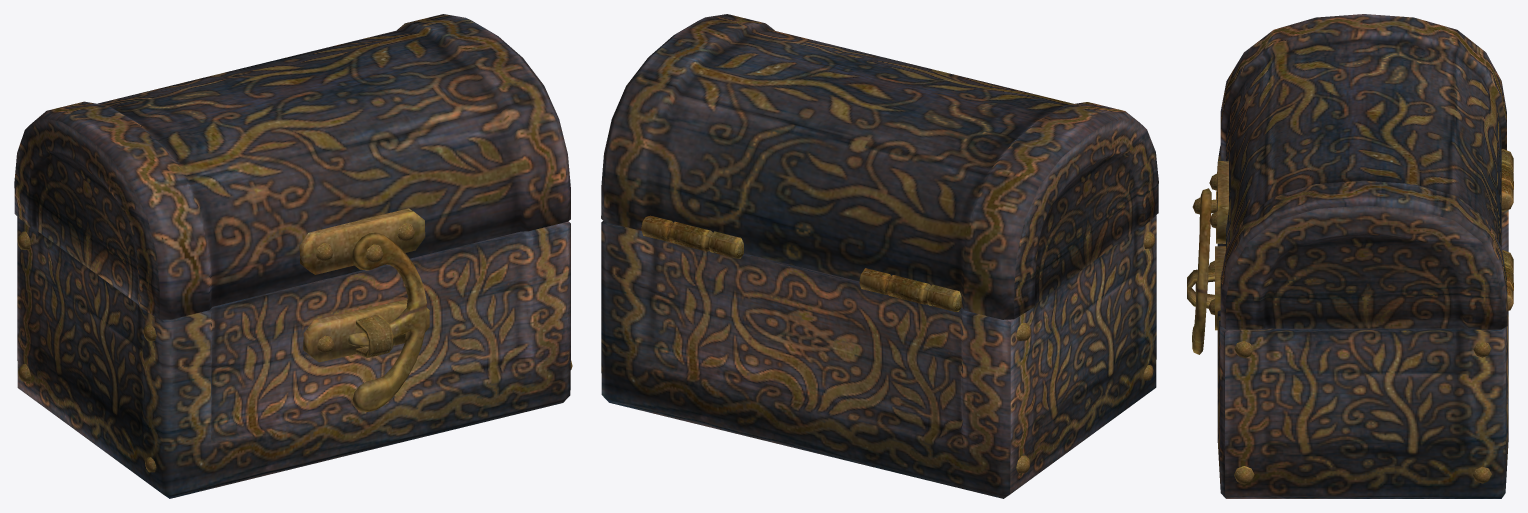
File: Casket.FBX
3 views of the same model, side by side, from view 1: azimuth 30°, elevation 25°; view 2: azimuth 150°, elevation 25°; view 3: azimuth 270°, elevation 25° (orthographic). The views are drawn at different scales.
Parts seen in each view (by area): view 1: casket_cover, casket; view 2: casket_cover, casket; view 3: casket_cover, casket.
Part boxes in pixels (bbox=[...]): casket_cover: bbox=[14, 14, 570, 411]; casket: bbox=[17, 216, 572, 498]; casket_cover: bbox=[601, 14, 1158, 319]; casket: bbox=[601, 215, 1156, 498]; casket_cover: bbox=[1192, 14, 1507, 354]; casket: bbox=[1187, 146, 1513, 498].
Size of the model in its own units: 35.25 by 24.92 by 24.51.
